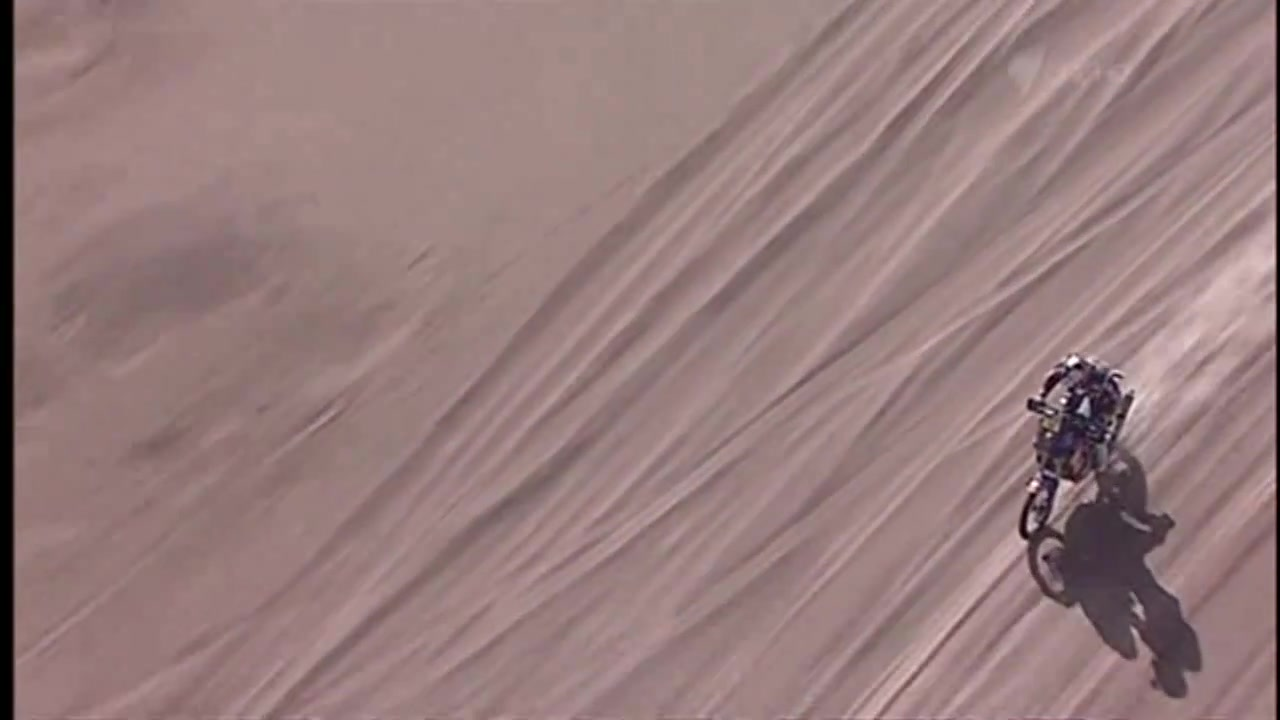motorbike: (1016, 371, 1139, 545)
